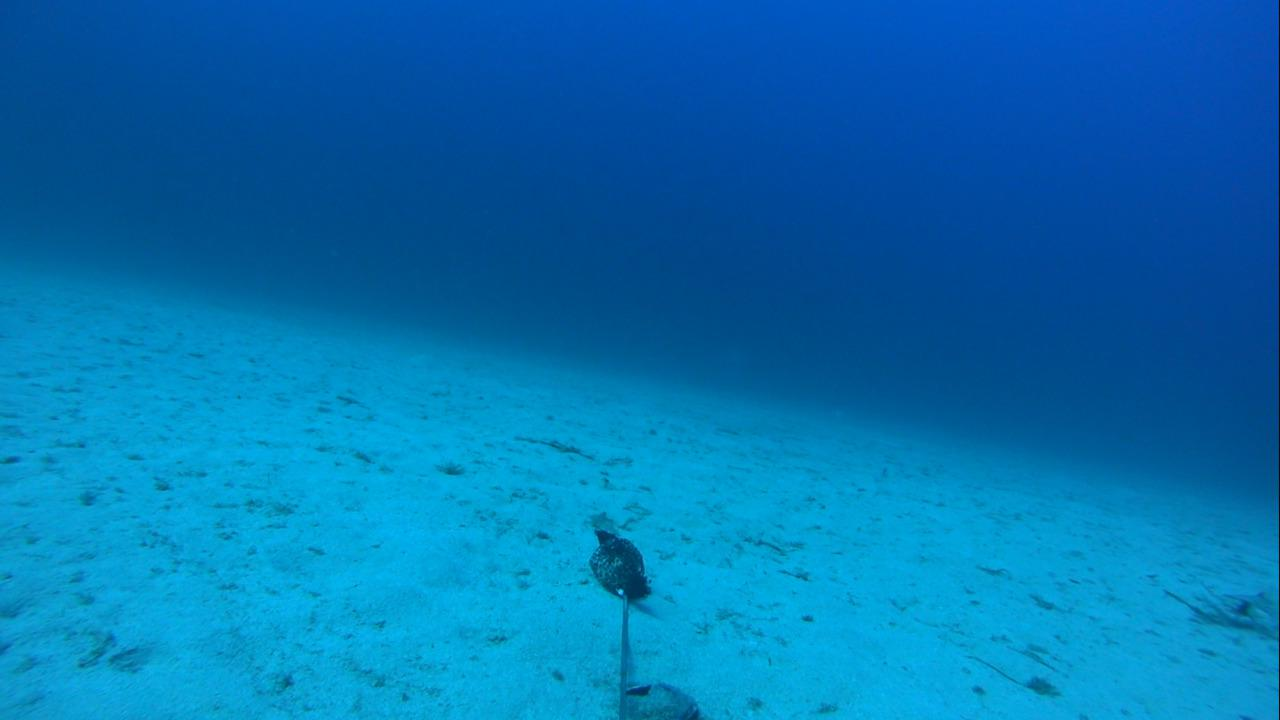dactylopterus: (1167, 577, 1279, 635)
